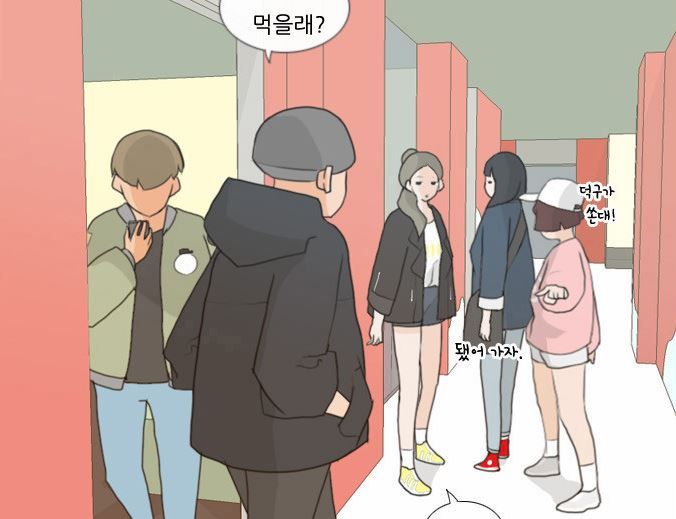hat: (520, 179, 585, 212)
